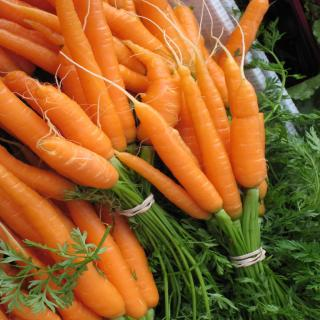Carrot: (0, 0, 271, 320), (58, 48, 226, 215)
